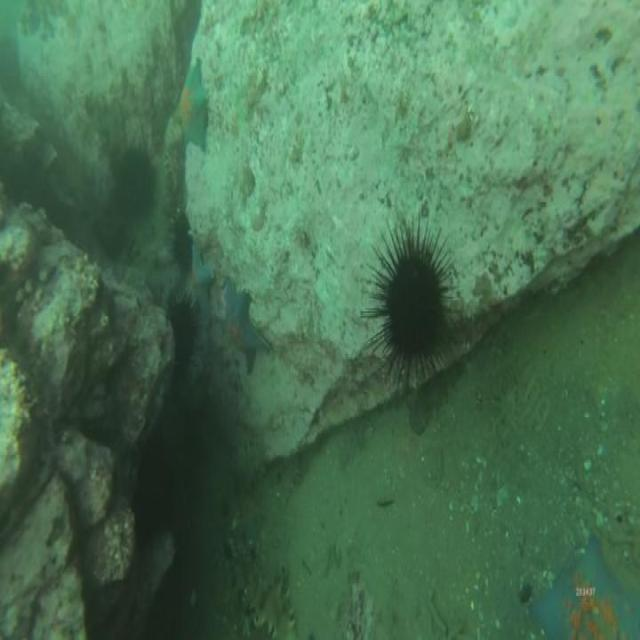echinus: (371, 229, 456, 383), (107, 138, 159, 225), (162, 208, 200, 283)
holothurian: (223, 529, 298, 640), (228, 434, 266, 494)
starfish: (525, 521, 639, 640), (220, 276, 272, 381), (176, 57, 210, 156), (187, 242, 217, 327)
